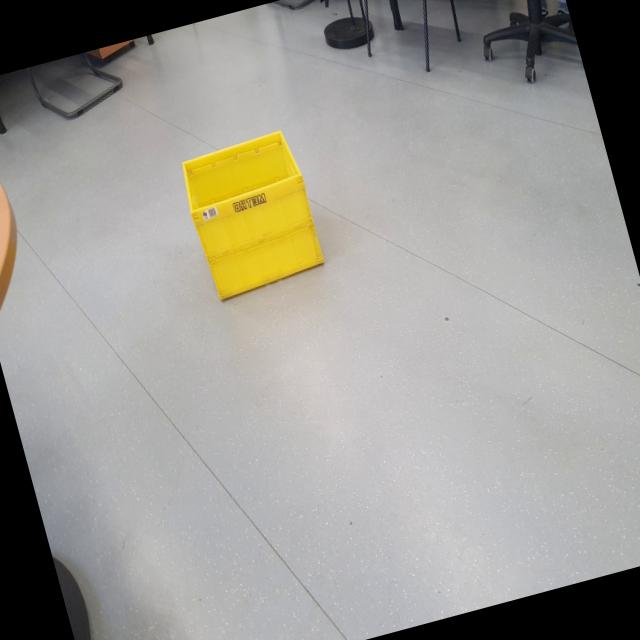box: (164, 104, 349, 341)
